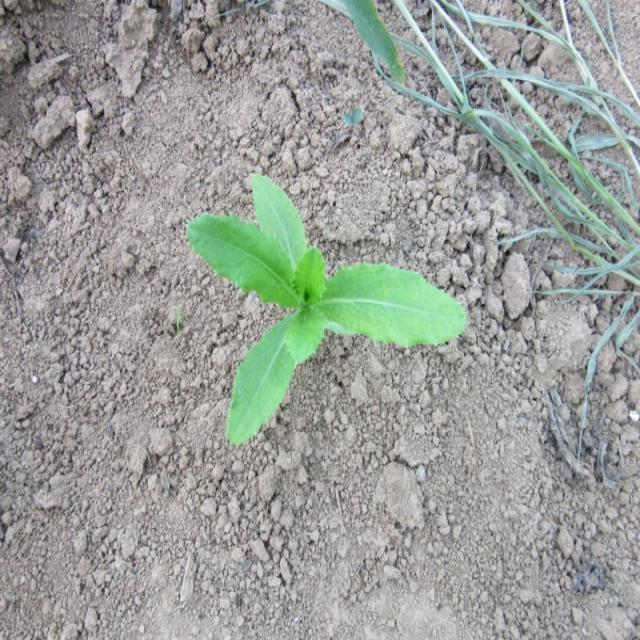cs: (185, 172, 469, 443)
